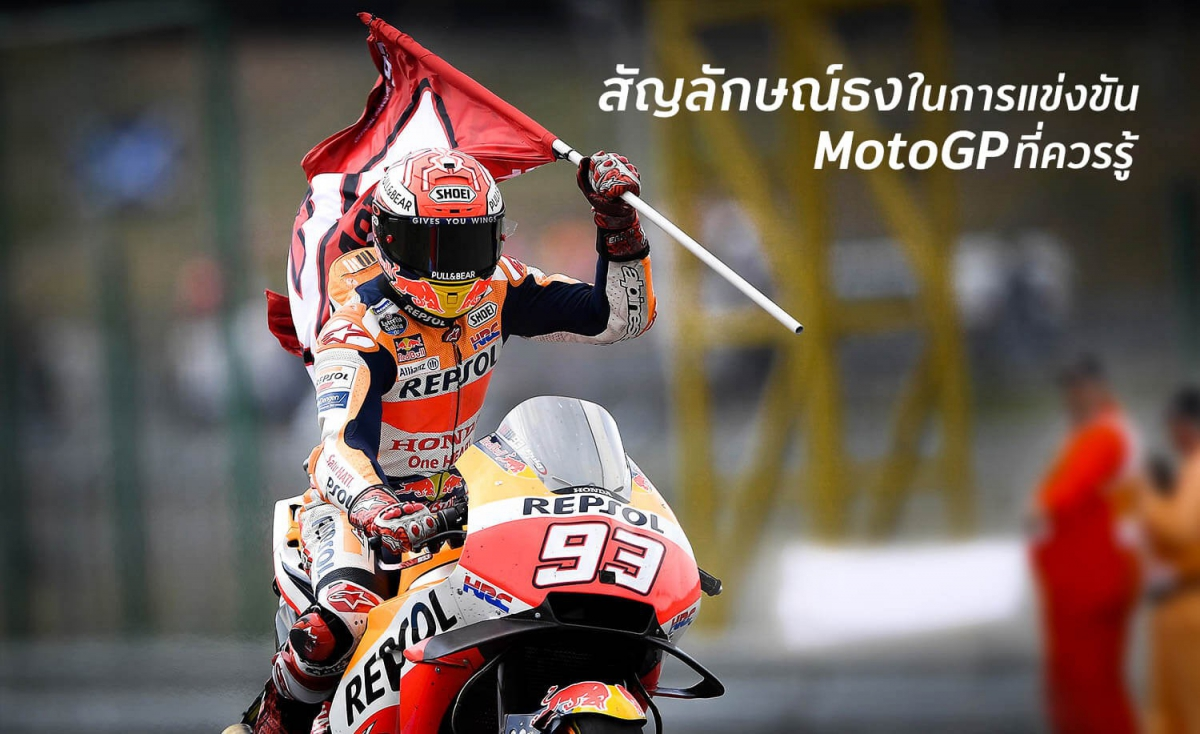helmet: (358, 149, 532, 327)
